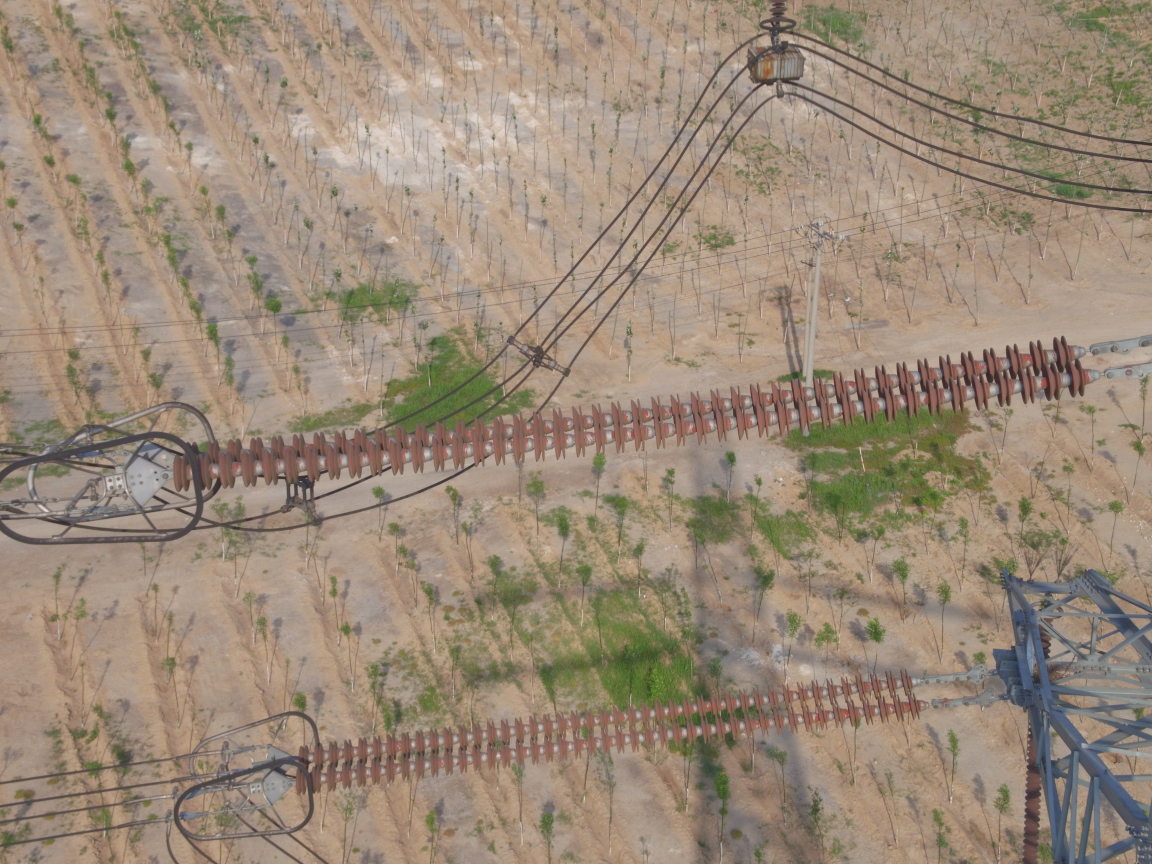insulator: (153, 331, 1129, 495), (283, 666, 944, 801)
